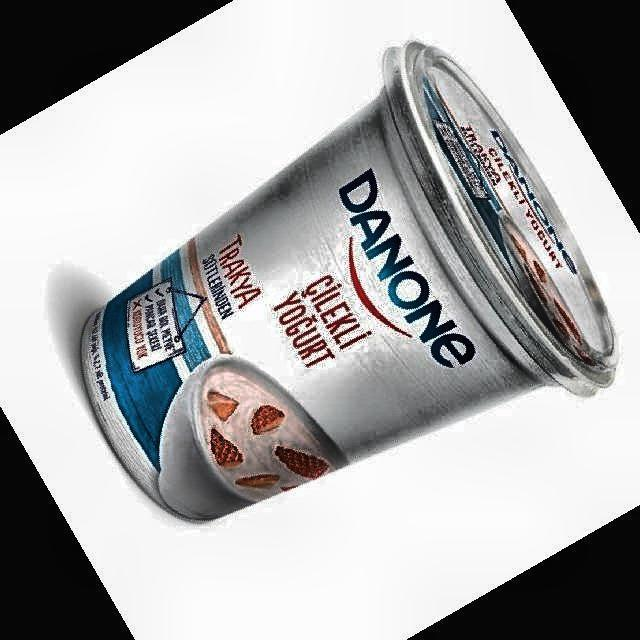plastic: (85, 42, 616, 519)
